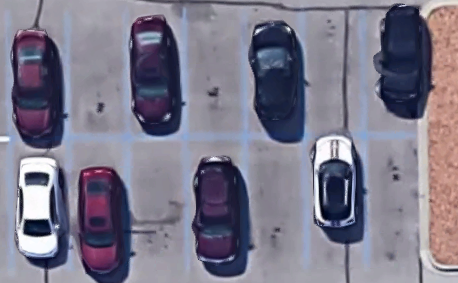Occupied: (7, 139, 72, 272), (6, 9, 70, 139), (185, 138, 247, 270), (245, 9, 308, 137), (307, 137, 366, 268), (70, 139, 129, 269), (126, 10, 185, 139), (365, 9, 424, 135)
Vacant: (245, 136, 308, 267), (127, 139, 188, 270), (366, 136, 426, 269), (184, 10, 245, 138), (69, 9, 127, 140), (306, 10, 366, 136)
